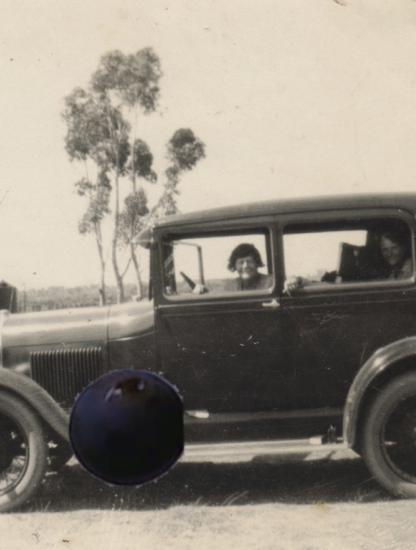Grape: (64, 365, 188, 489)
